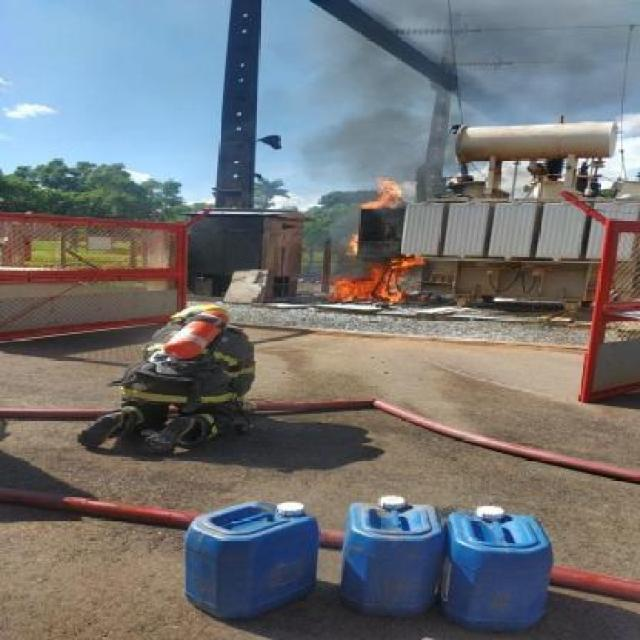Fire: (330, 174, 440, 348)
Smoke: (303, 0, 640, 202)
